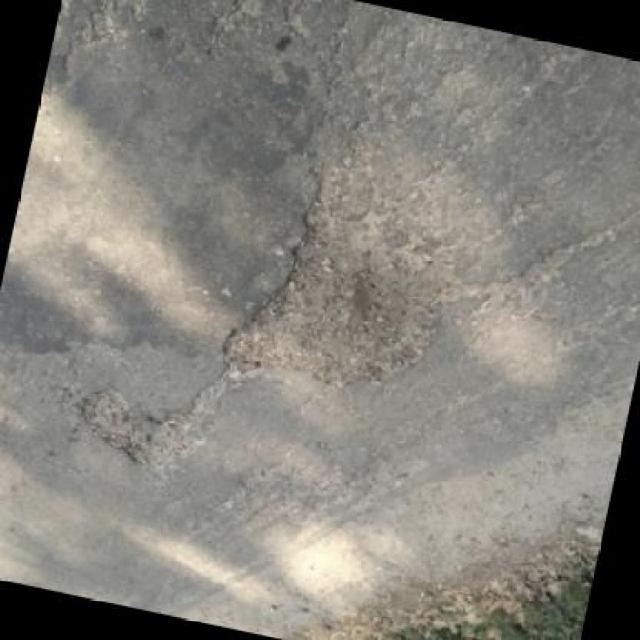pothole1: (212, 178, 471, 418), (62, 385, 202, 487)
